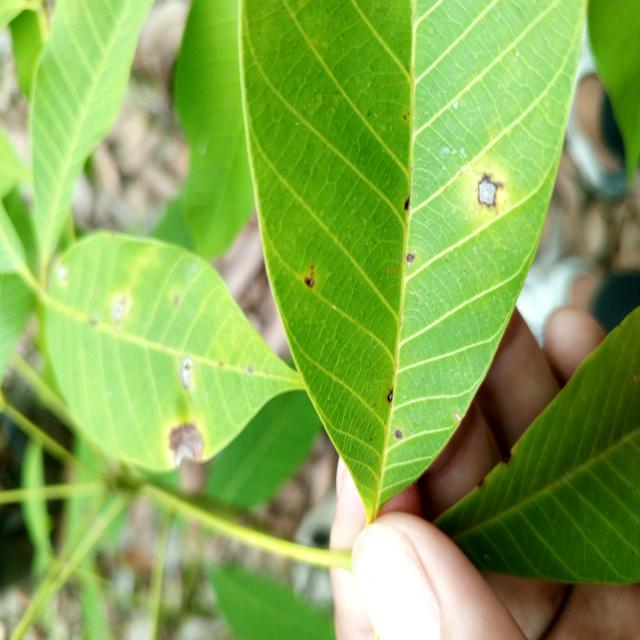Colletotrichum: (387, 390, 393, 402), (406, 255, 413, 262), (396, 431, 401, 438)
